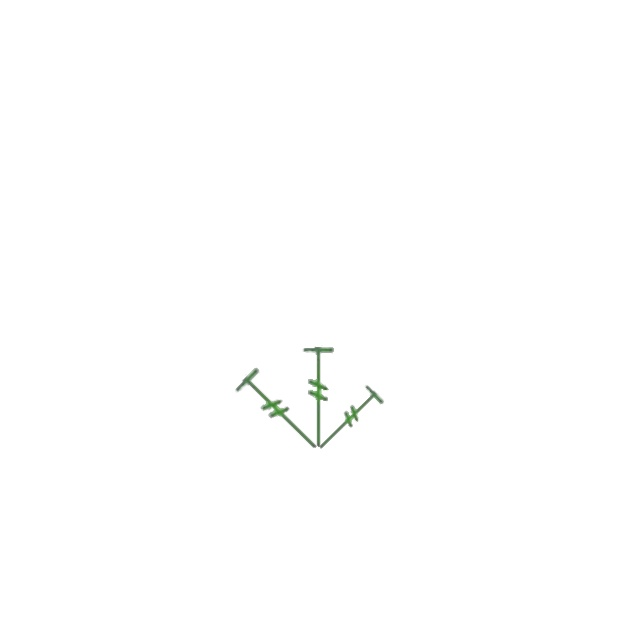fan: (231, 364, 331, 463), (308, 383, 386, 460), (300, 345, 336, 450)
